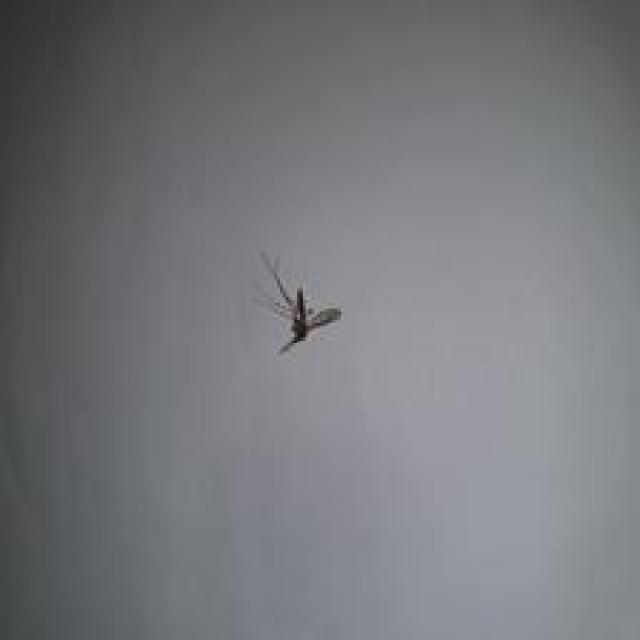Culex: (251, 250, 343, 356)
